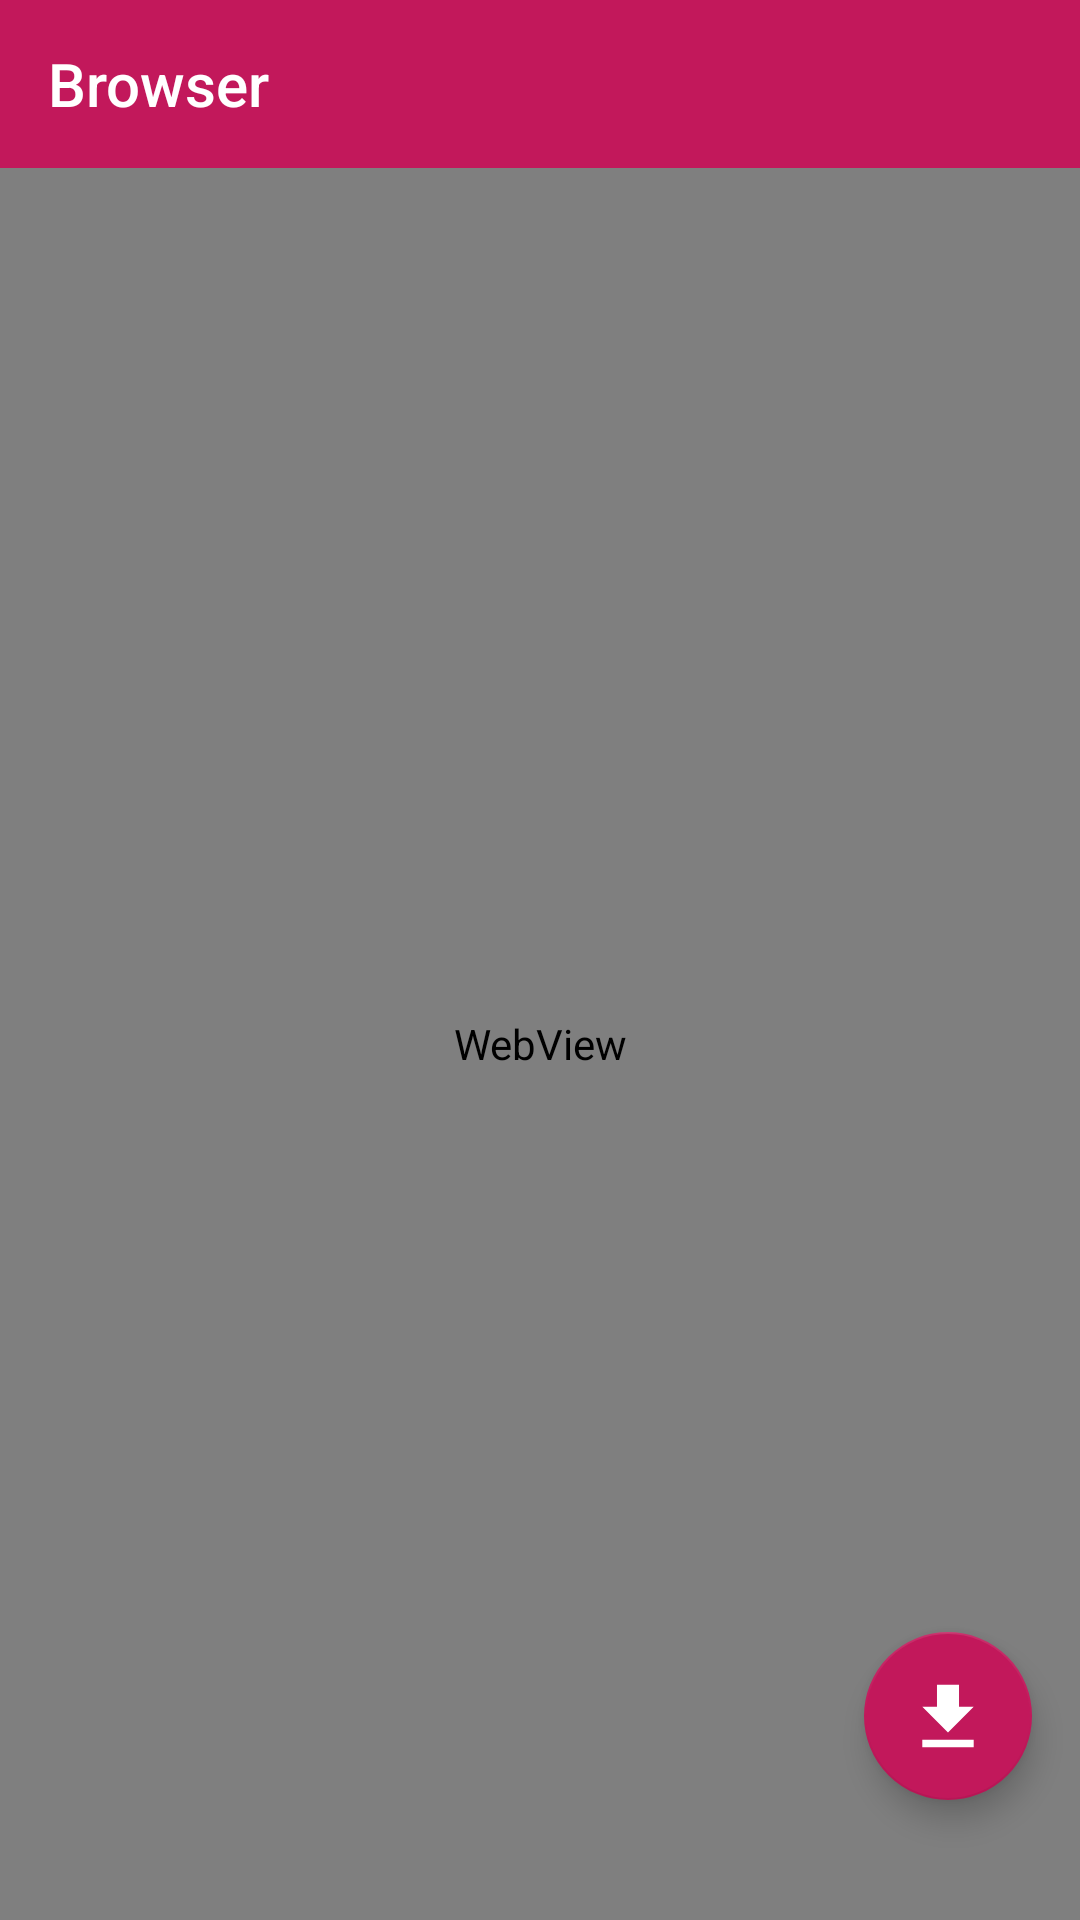

Where icons sit on this 1080*1920 app screen, as box=[x1, y1, x2, y2]:
download: box=[864, 1632, 1032, 1800]
